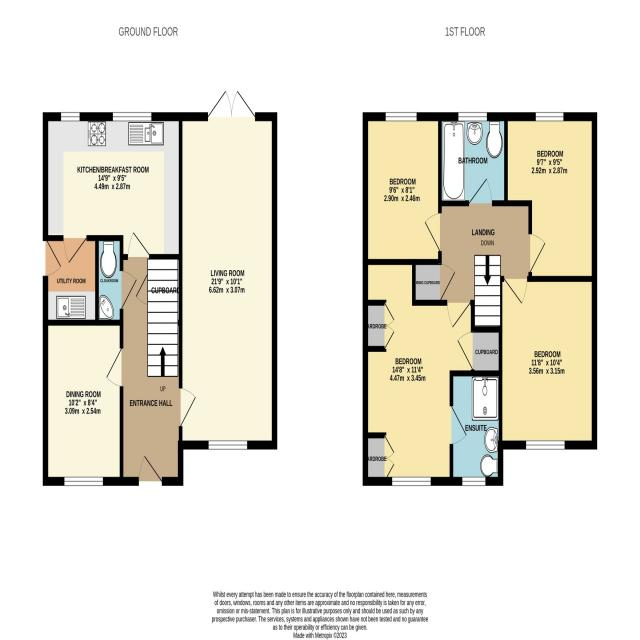DOOR: (138, 453, 163, 487), (423, 210, 442, 253), (528, 232, 547, 274), (62, 235, 88, 265), (503, 275, 528, 306), (449, 405, 468, 445), (105, 347, 124, 387), (42, 239, 62, 277), (446, 299, 471, 329), (468, 177, 493, 207), (179, 387, 197, 428), (127, 229, 150, 261), (120, 270, 137, 310)
DOUBLE DOOR: (207, 88, 256, 122)
ROOM: (177, 88, 278, 450), (362, 258, 503, 487), (42, 112, 183, 265), (497, 275, 598, 450), (504, 111, 598, 282), (42, 319, 124, 486), (362, 112, 442, 266)
WINDOW: (525, 439, 566, 451), (208, 439, 248, 451), (391, 476, 432, 487), (64, 476, 104, 487), (112, 111, 152, 122), (385, 111, 417, 122), (458, 111, 488, 122), (535, 112, 564, 122), (462, 476, 486, 487), (61, 111, 80, 122)
